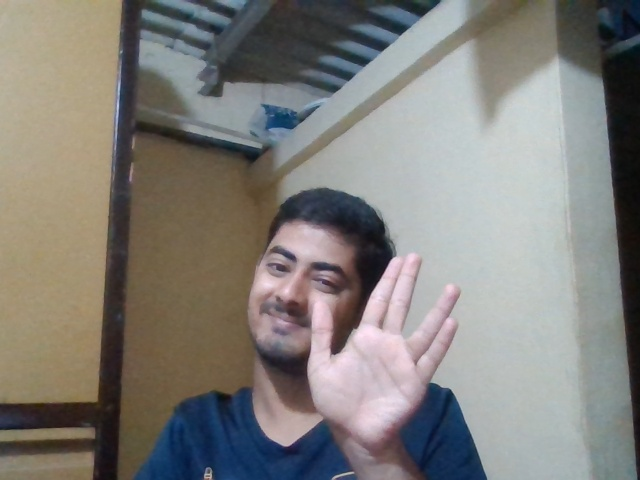LiveLong: (305, 252, 462, 449)
